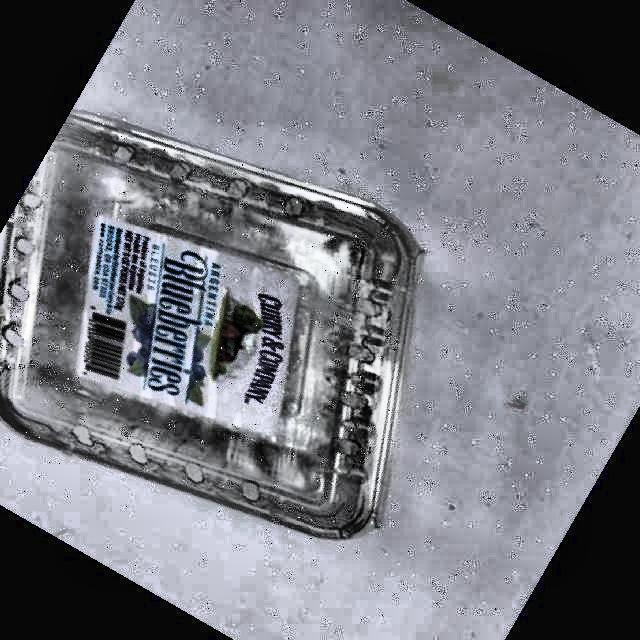plastic: (0, 112, 419, 537)
